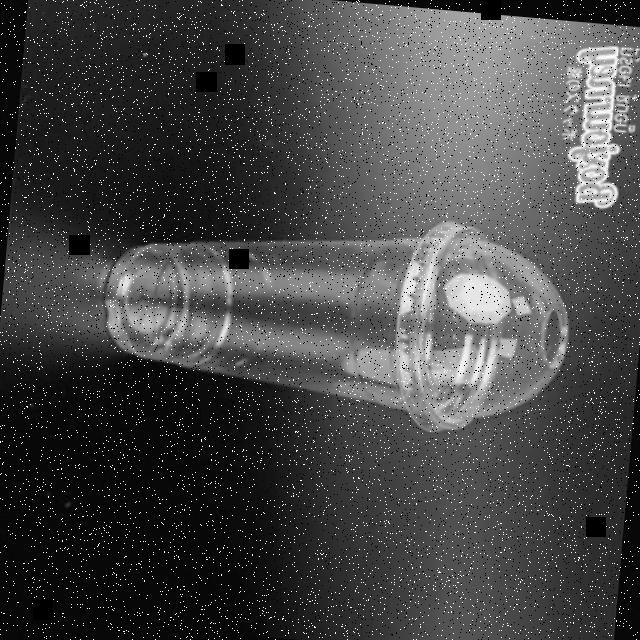plastic_box: (88, 190, 578, 442)
